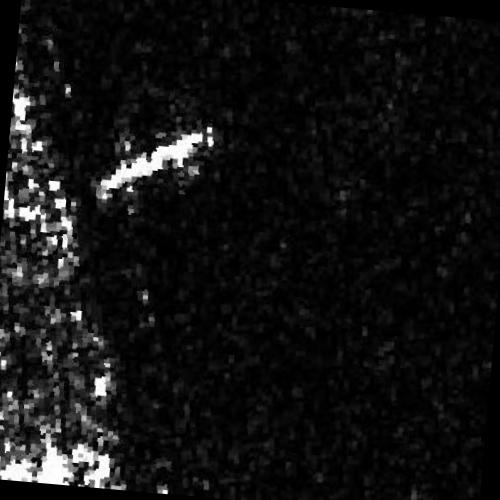ship: (92, 123, 215, 204)
